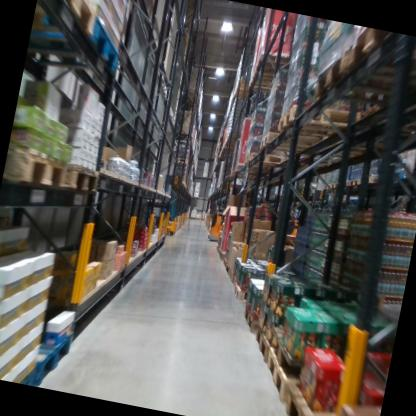forklift: (202, 153, 242, 249)
pallet: (309, 47, 416, 124), (255, 337, 358, 416), (275, 87, 399, 151), (261, 316, 364, 393), (7, 116, 74, 195), (12, 319, 81, 391), (346, 29, 416, 87), (29, 0, 99, 58), (251, 121, 332, 170), (278, 378, 370, 416), (82, 24, 128, 81), (61, 152, 107, 205), (233, 299, 267, 343), (242, 143, 290, 174), (247, 324, 275, 370), (247, 59, 287, 85), (246, 74, 279, 95), (357, 171, 381, 192), (232, 282, 253, 305), (346, 169, 361, 197), (229, 272, 241, 291), (318, 180, 331, 196), (226, 267, 236, 287), (338, 177, 350, 193), (329, 178, 339, 193), (221, 256, 230, 272), (224, 262, 230, 277), (215, 250, 225, 259)
